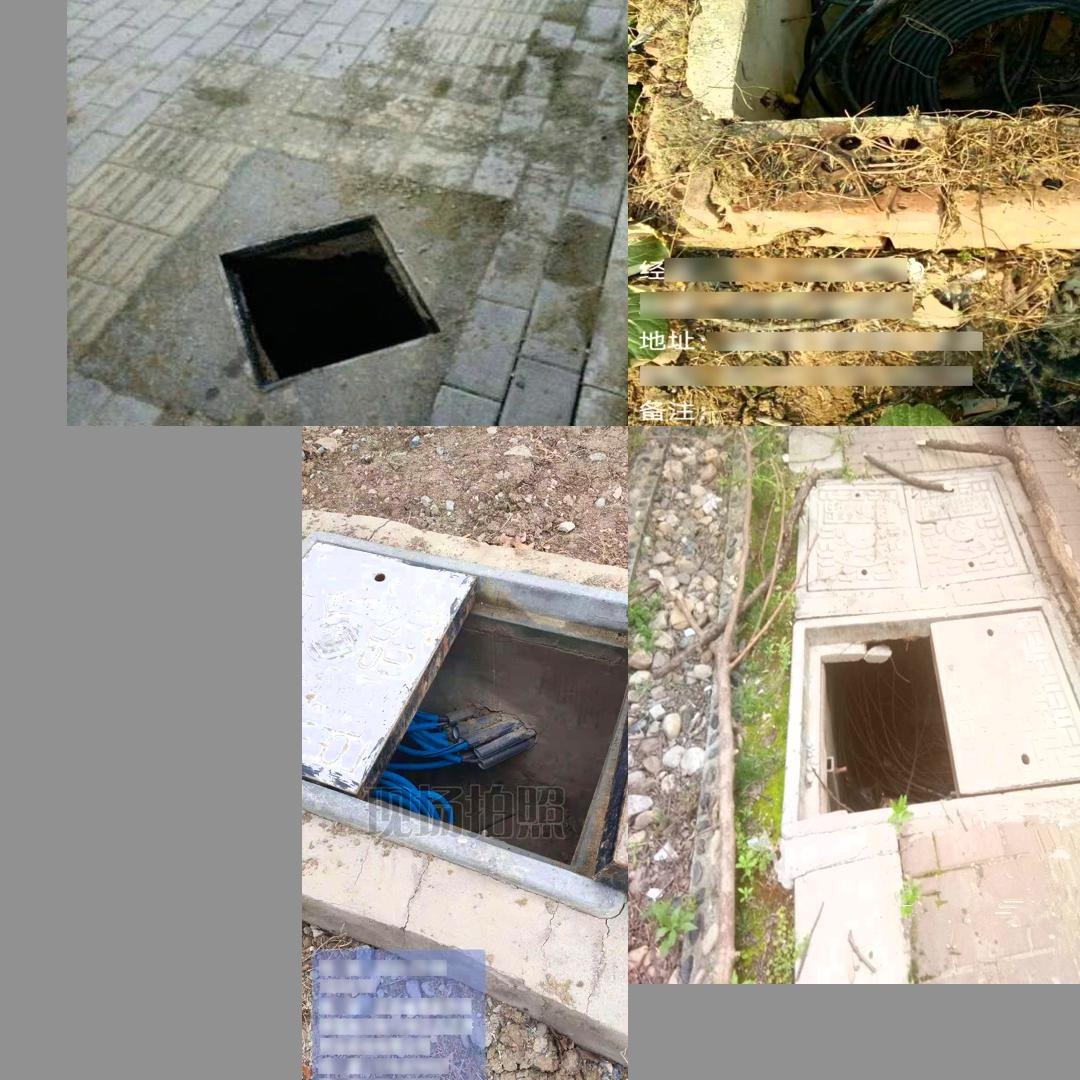good: (793, 465, 1036, 617)
lose: (303, 531, 628, 912), (780, 597, 1080, 839), (207, 212, 509, 390), (729, 0, 1080, 127)
